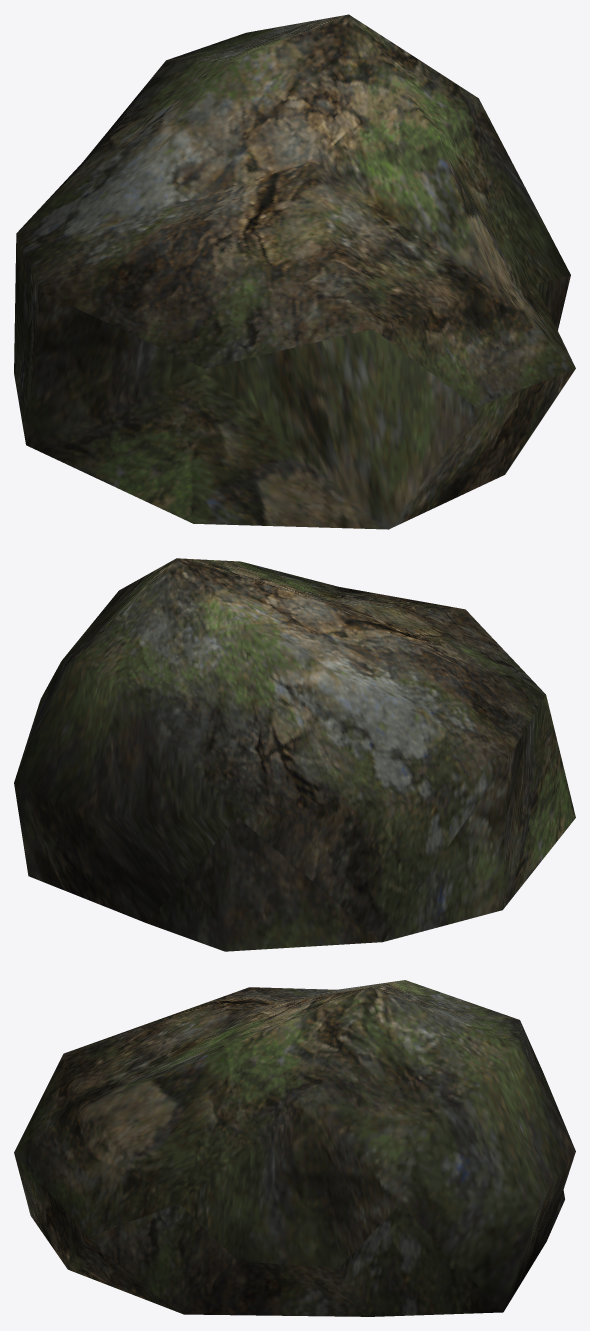
The picture shows the model from 3 angles, top to bottom: view 1: azimuth 30°, elevation 25°; view 2: azimuth 150°, elevation 25°; view 3: azimuth 270°, elevation 25°; orthographic projection. The views are drawn at different scales.
Parts seen in each view (by area): view 1: SMDImport; view 2: SMDImport; view 3: SMDImport.
Boxes of the visible parts, x1,y1,x2,y2 form: SMDImport: (14,14,575,529); SMDImport: (14,558,575,951); SMDImport: (14,980,575,1316).
Bounding box in the file's own units: 392 × 253 × 438.
